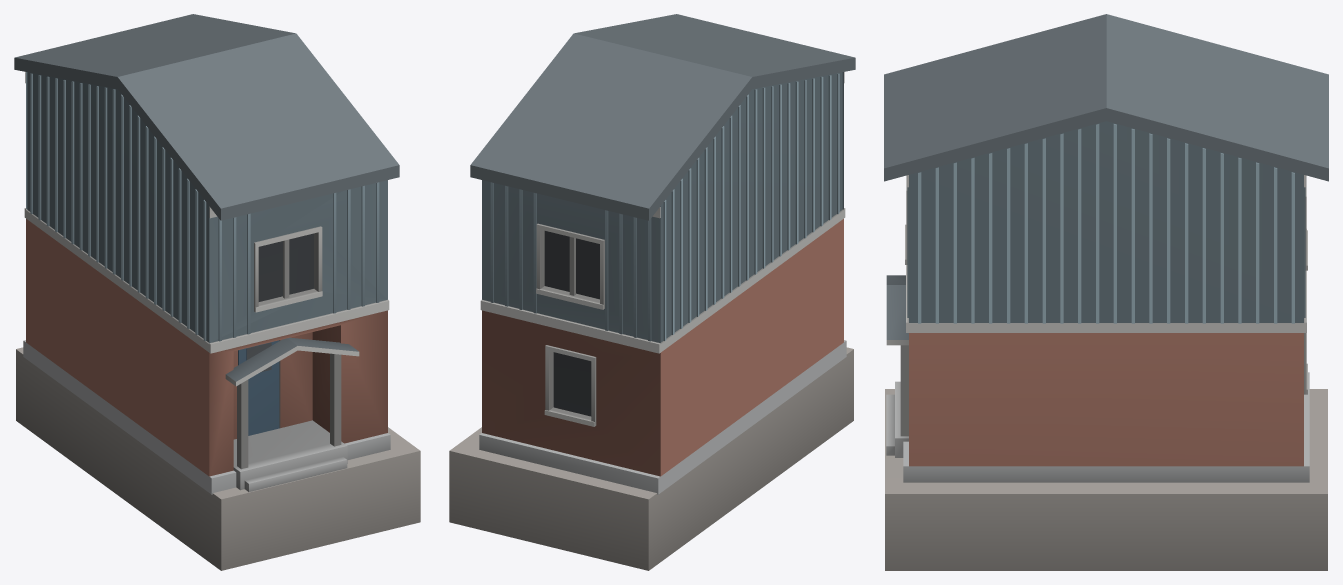
The model's file is terrace_a.glb.
The picture shows the model from 3 angles, left to right: view 1: azimuth 30°, elevation 25°; view 2: azimuth 150°, elevation 25°; view 3: azimuth 270°, elevation 25°; orthographic projection. The views are drawn at different scales.
Visible parts, largest first — view 1: terrace_a; view 2: terrace_a; view 3: terrace_a.
Part boxes in pixels (x1=…): terrace_a: x1=14, y1=14, x2=420, y2=570; terrace_a: x1=449, y1=14, x2=855, y2=570; terrace_a: x1=884, y1=14, x2=1328, y2=570.
Size of the model in its own units: 4.48 by 8.96 by 8.
